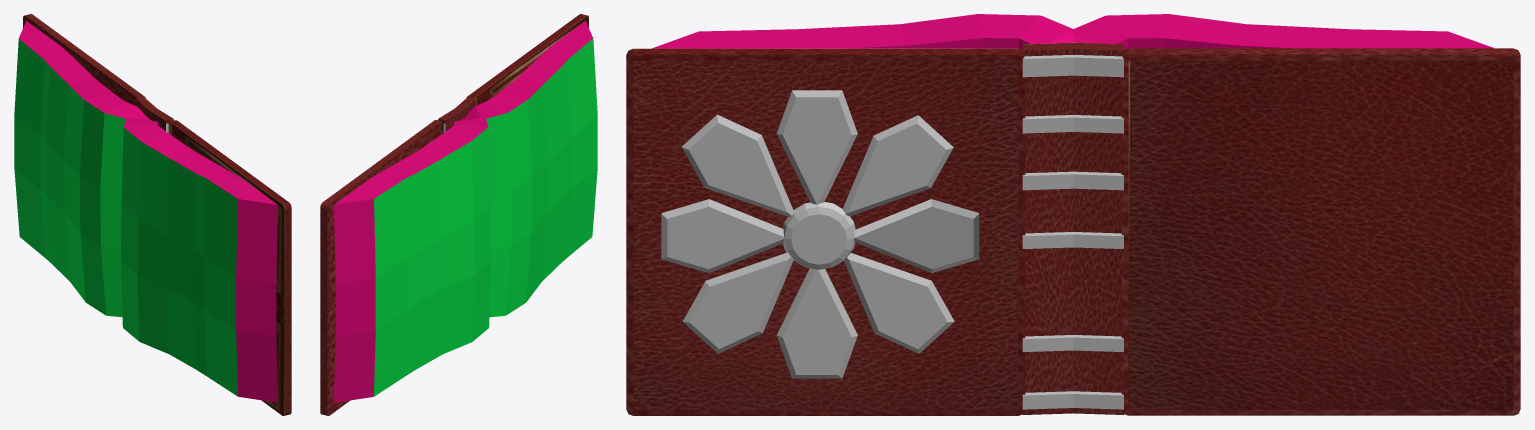
Rendered from book openfixeduvskibiditoiletrizzmode.fbx.
3 renders of one model, left to right at view 1: azimuth 30°, elevation 25°; view 2: azimuth 150°, elevation 25°; view 3: azimuth 270°, elevation 25°, orthographic. The views are drawn at different scales.
Parts seen in each view (by area): view 1: book; view 2: book; view 3: book, Cube.004, Cube.001, Cube.002, Cube.006, Cube.008, Cube.005, Cube.003, Cube.007, Cube.009.
Boxes of the visible parts, x1,y1,x2,y2 form: book: (14,14,291,415); book: (320,14,597,415); book: (626,14,1520,415); Cube.004: (681,114,793,217); Cube.001: (854,199,979,273); Cube.002: (842,115,953,216); Cube.006: (682,252,793,353); Cube.008: (844,253,954,353); Cube.005: (661,199,783,273); Cube.003: (776,90,857,204); Cube.007: (776,268,857,378); Cube.009: (783,202,855,269).
Bounding box in the file's own units: 26.82 × 95.64 × 213.
